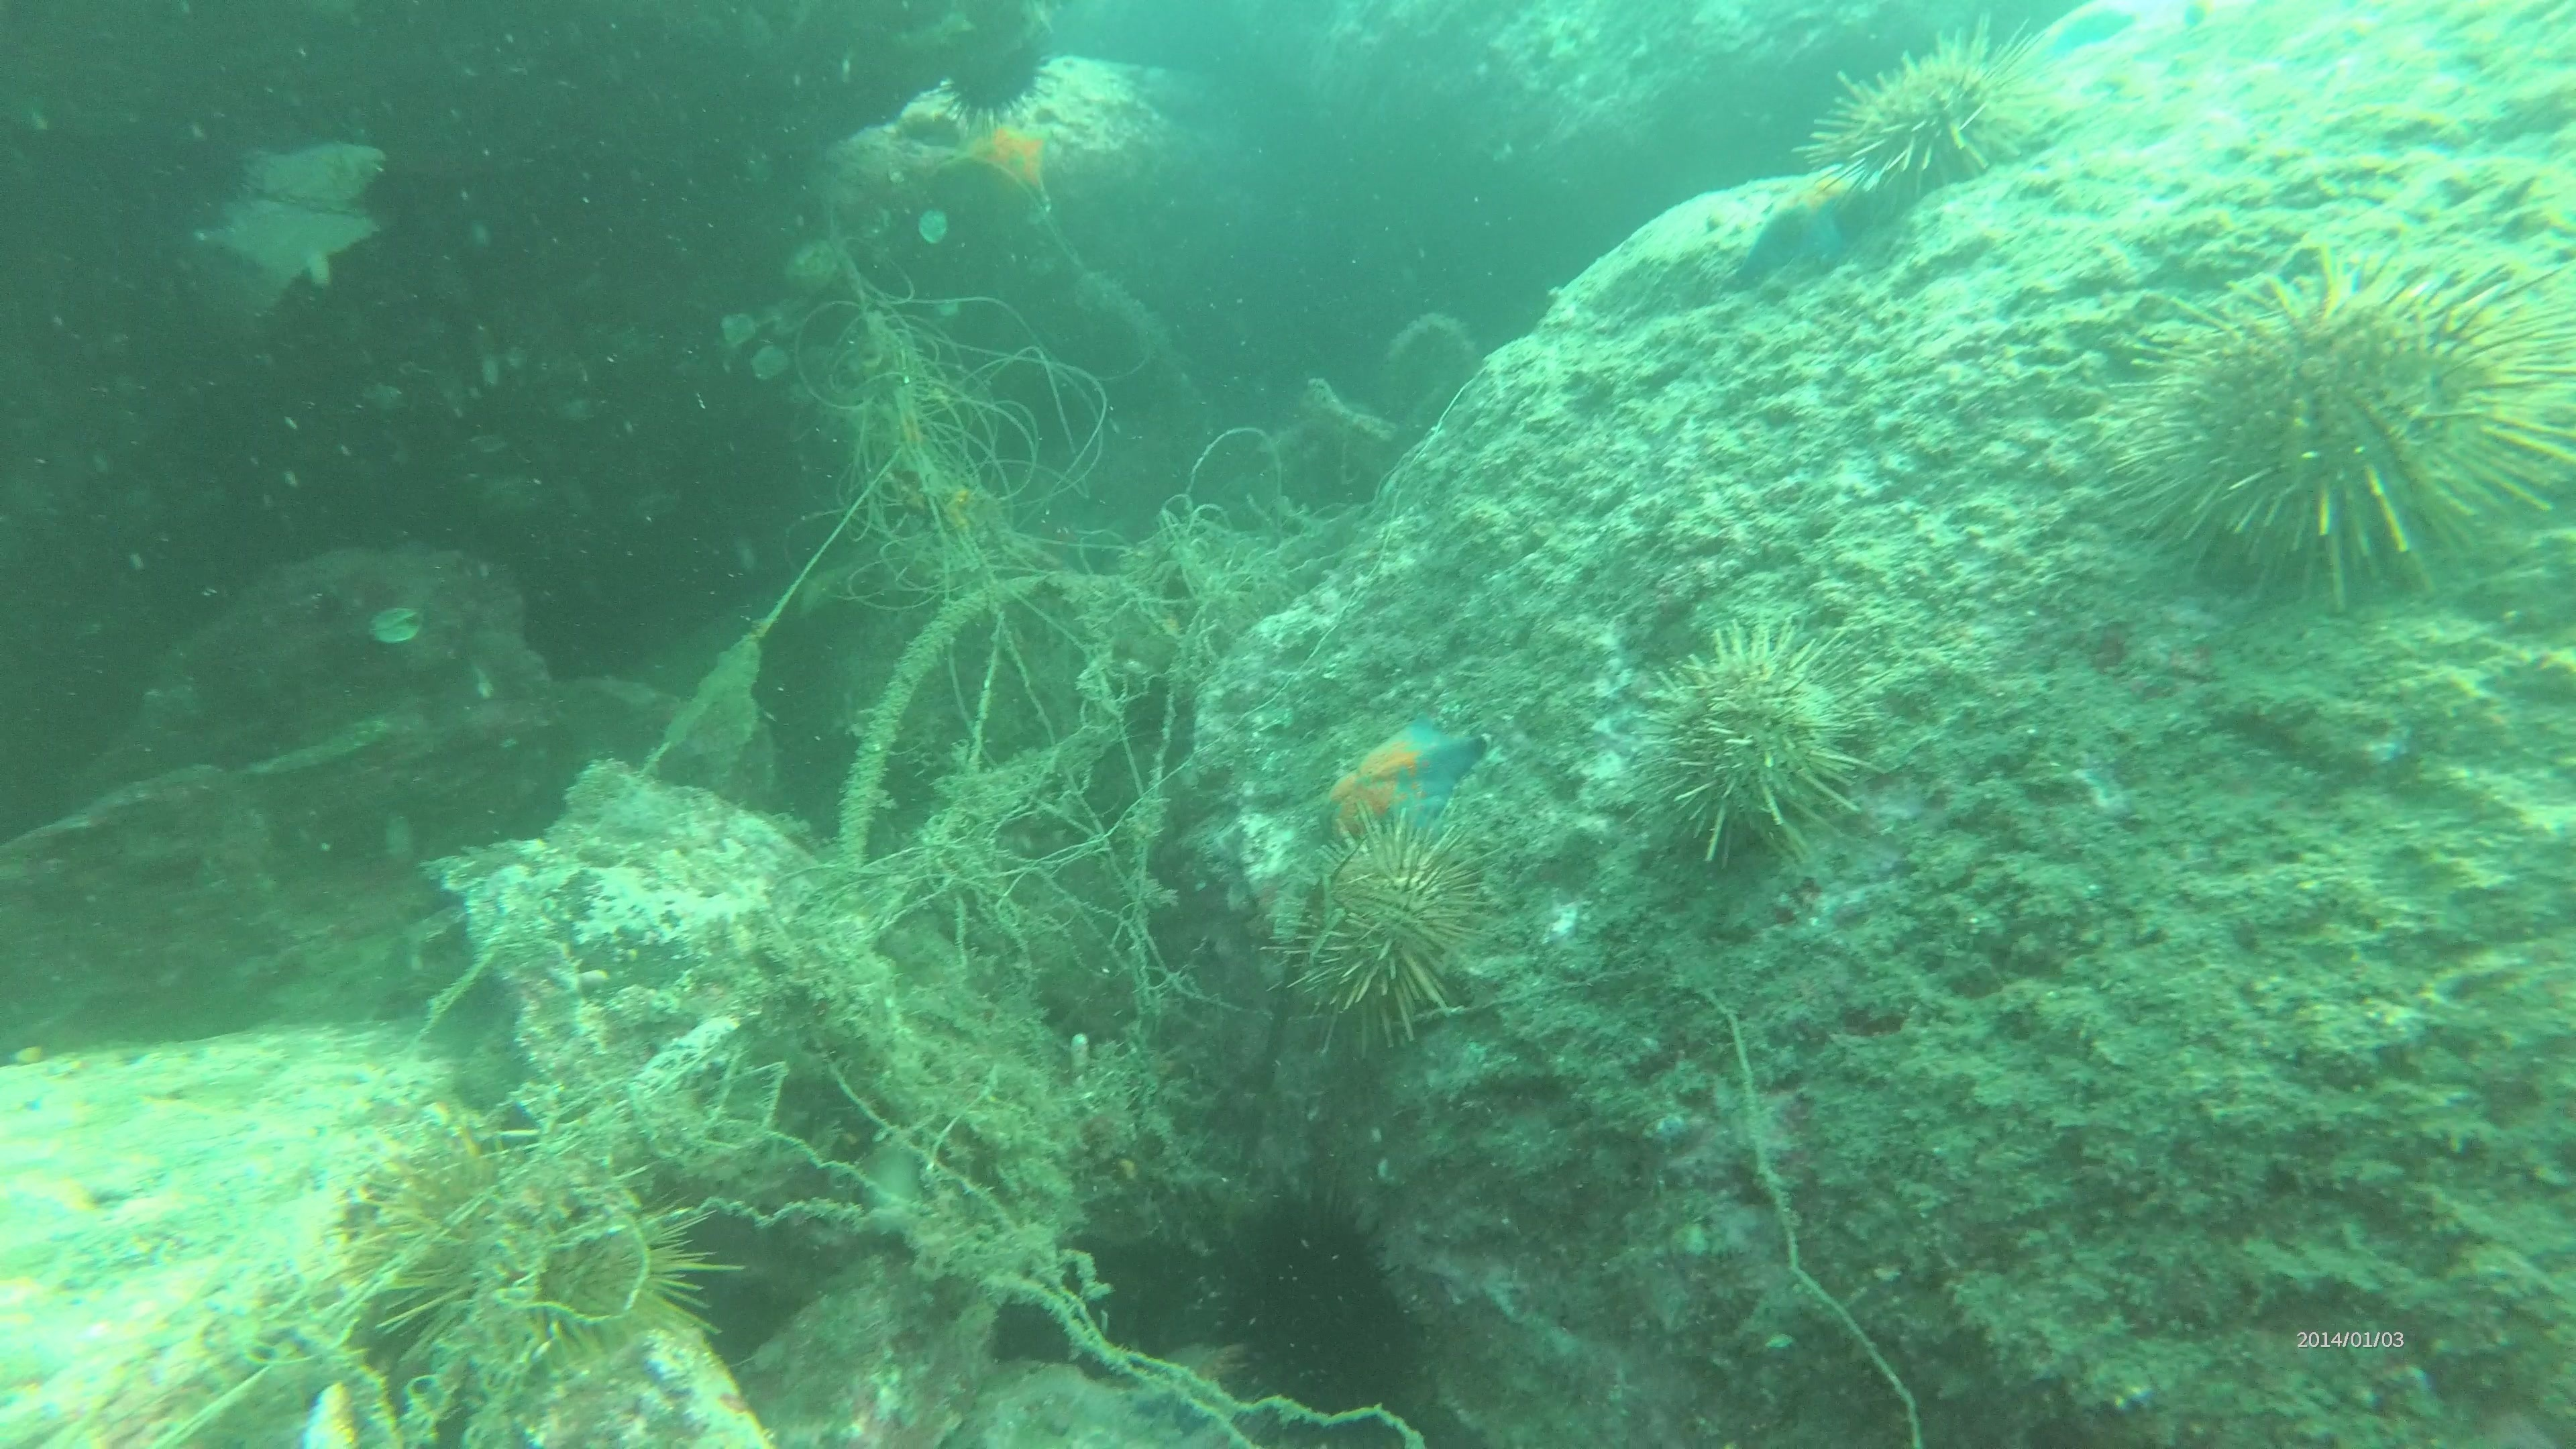echinus: (2098, 242, 2569, 614), (356, 1131, 717, 1412), (1629, 619, 1881, 874), (1205, 1185, 1433, 1422), (1805, 27, 2068, 209), (1288, 819, 1497, 1047), (929, 9, 1058, 122)
starfish: (1307, 704, 1490, 855), (1725, 157, 1893, 294), (934, 104, 1077, 228), (2020, 0, 2144, 67)
